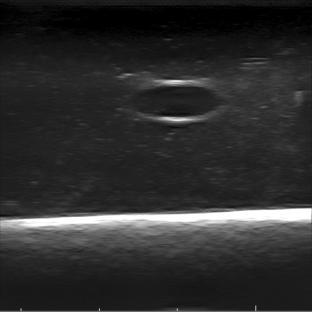vessel: (129, 79, 227, 123)
